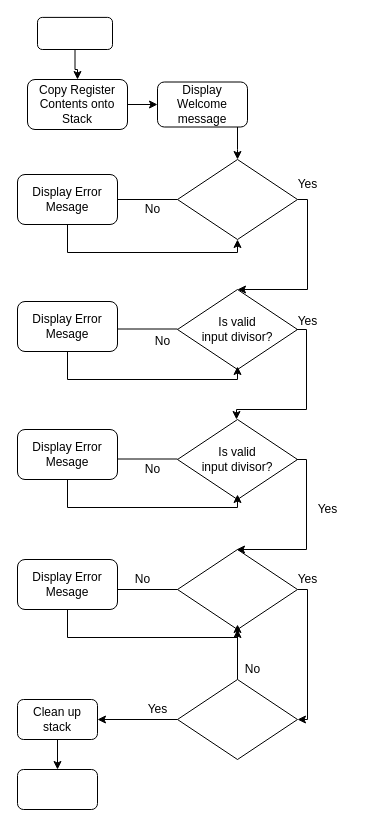
Image size: 365x828. Some labels were removed from this diagram. Each missing label, with the centre of its shape:
Have all entries been given?: point 237,719
Is single entry valid?: point 237,589
Is valid number of entries?: point 237,199
Return: point 57,789
Start: point 74,33
